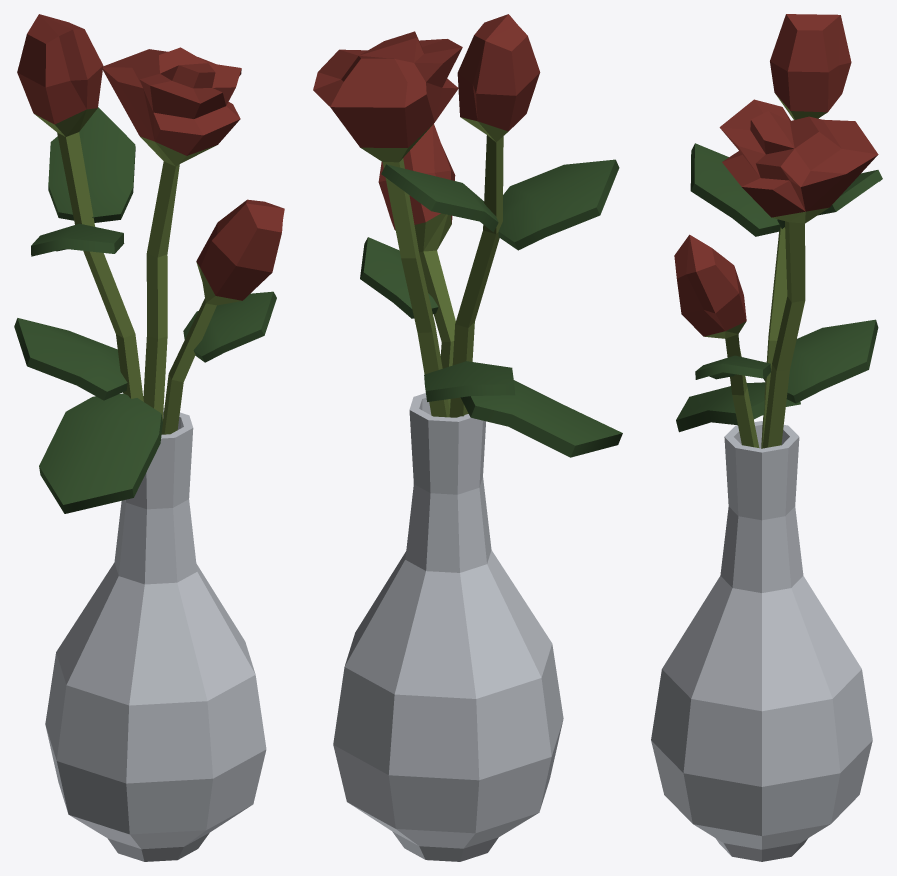
The model's file is SM_Prop_Plant_Flowers_02.obj.
The picture shows the model from 3 angles, left to right: view 1: azimuth 30°, elevation 25°; view 2: azimuth 150°, elevation 25°; view 3: azimuth 270°, elevation 25°; orthographic projection. The views are drawn at different scales.
Parts seen in each view (by area): view 1: SM_Prop_Plant_Flowers_02_M_PolygonOffice_01_A; view 2: SM_Prop_Plant_Flowers_02_M_PolygonOffice_01_A; view 3: SM_Prop_Plant_Flowers_02_M_PolygonOffice_01_A.
Boxes of the visible parts, x1,y1,x2,y2 form: SM_Prop_Plant_Flowers_02_M_PolygonOffice_01_A: (14,14,284,861); SM_Prop_Plant_Flowers_02_M_PolygonOffice_01_A: (313,14,622,861); SM_Prop_Plant_Flowers_02_M_PolygonOffice_01_A: (651,14,882,861).
Size of the model in its own units: 0.2812 by 0.9187 by 0.2424.
